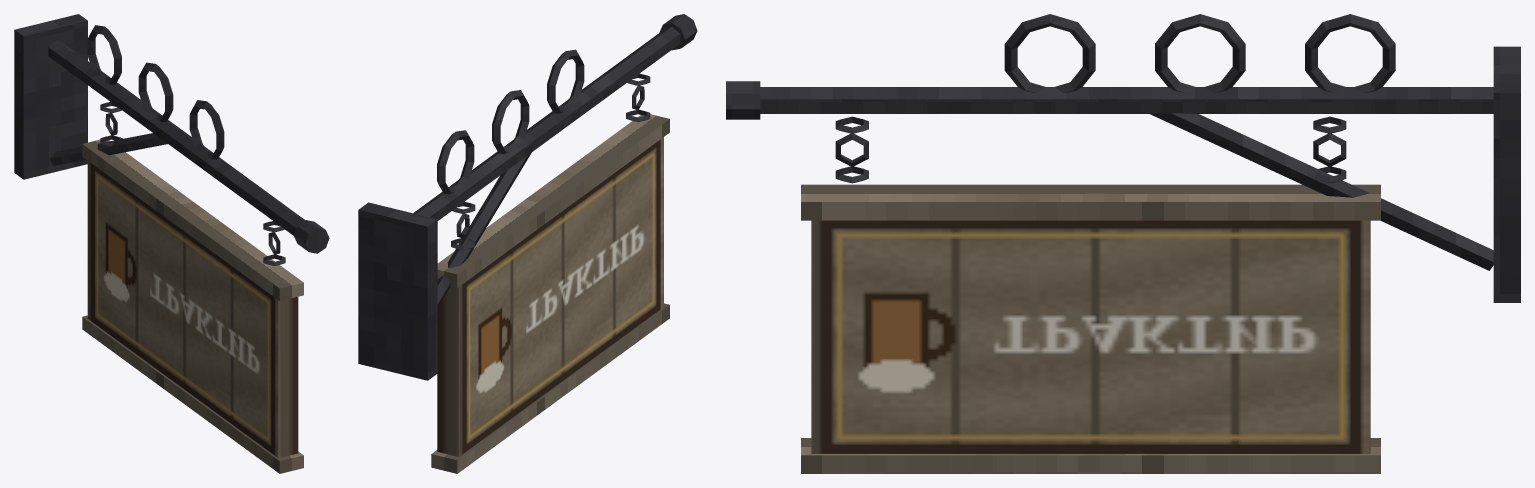
The model's file is sign_tavern.obj.
3 views of the same model, side by side, from view 1: azimuth 30°, elevation 25°; view 2: azimuth 150°, elevation 25°; view 3: azimuth 270°, elevation 25° (orthographic). The views are drawn at different scales.
Visible parts, largest first — view 1: sign_tavern; view 2: sign_tavern; view 3: sign_tavern.
Part boxes in pixels (left/top/right/bottom): sign_tavern: left=14, top=14, right=329, bottom=473; sign_tavern: left=358, top=14, right=697, bottom=473; sign_tavern: left=726, top=14, right=1520, bottom=473.
Size of the model in its own units: 0.16 by 0.73 by 1.16.
